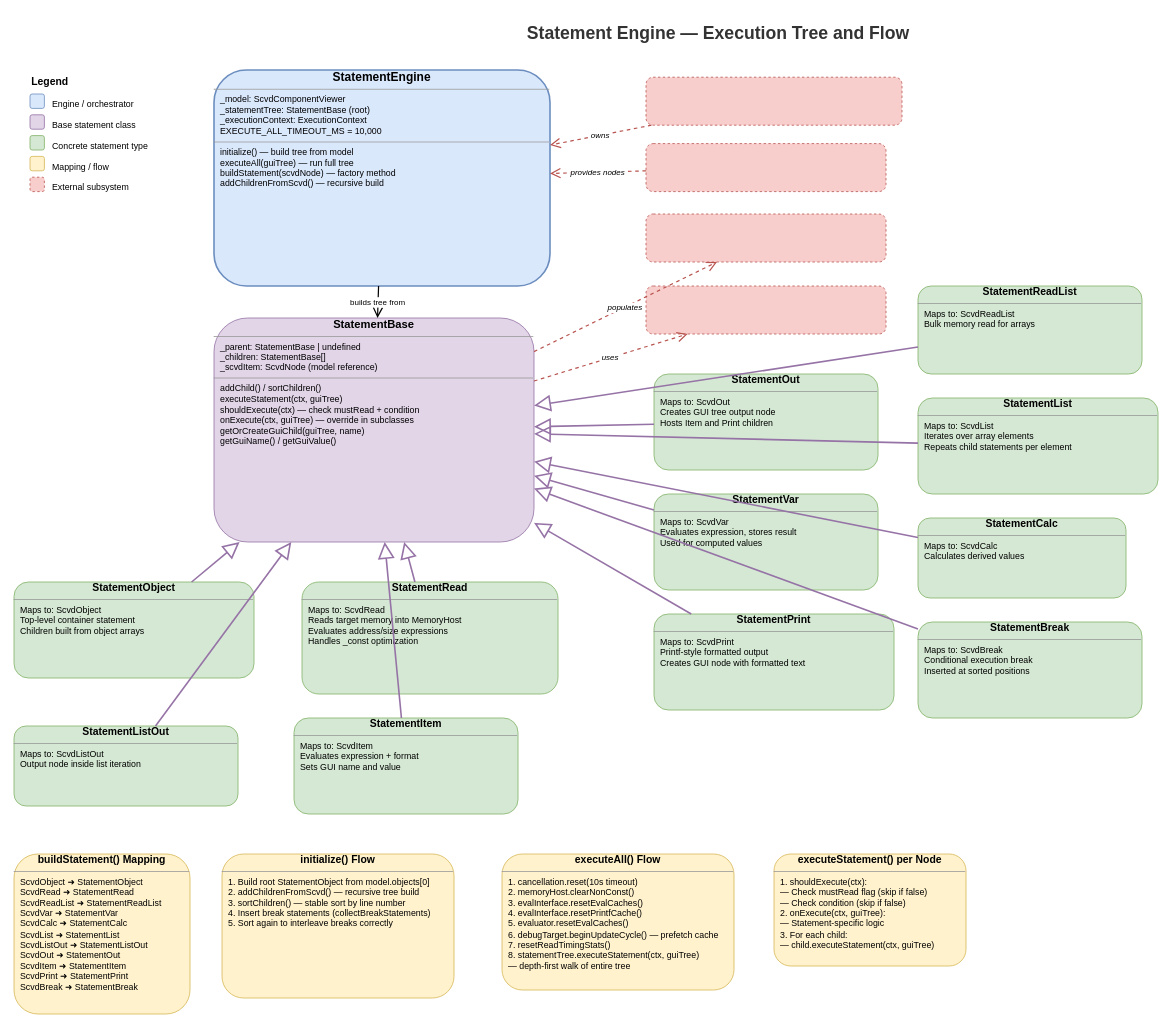
The diagram is 1172 pixels wide and 1028 high, and some of its shapes have lost their labels. Each missing label, with the box of its shape:
ComponentViewerInstance (owns StatementEngine): (645, 76, 902, 125)
ExecutionContext (used for evaluation): (645, 285, 886, 334)
SCVD Model (provides ScvdNode tree): (645, 143, 886, 192)
ScvdGuiTree (populated during execution): (645, 213, 886, 262)
